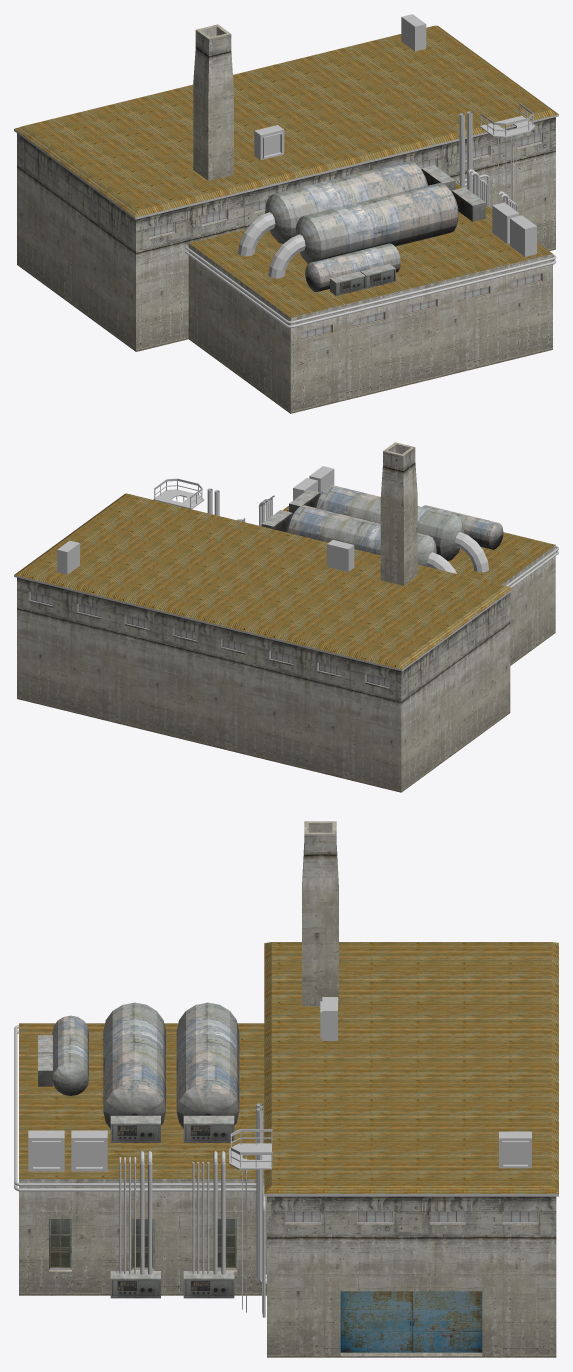
The model's file is Building_3_LOD01.fbx.
3 renders of one model, top to bottom at view 1: azimuth 30°, elevation 25°; view 2: azimuth 150°, elevation 25°; view 3: azimuth 270°, elevation 25°, orthographic. The views are drawn at different scales.
Parts seen in each view (by area): view 1: Building_3_LOD01; view 2: Building_3_LOD01; view 3: Building_3_LOD01.
Part boxes in pixels (x1=…): Building_3_LOD01: x1=14, y1=14, x2=558, y2=413; Building_3_LOD01: x1=14, y1=442, x2=558, y2=792; Building_3_LOD01: x1=14, y1=821, x2=558, y2=1357.
Size of the model in its own units: 19.45 by 12.27 by 17.83.
